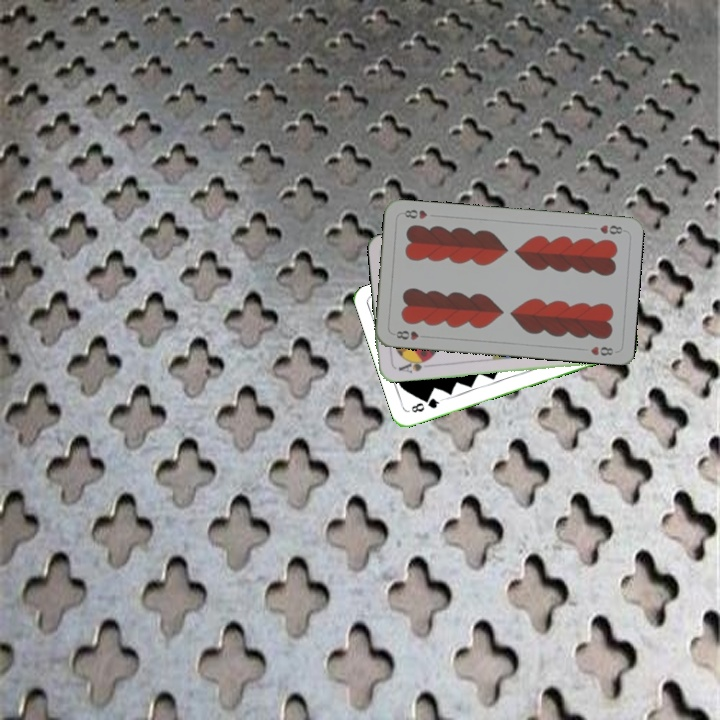G8: (407, 394, 445, 415)
H8: (389, 326, 421, 342), (596, 221, 627, 237)
SA: (394, 355, 432, 376)
